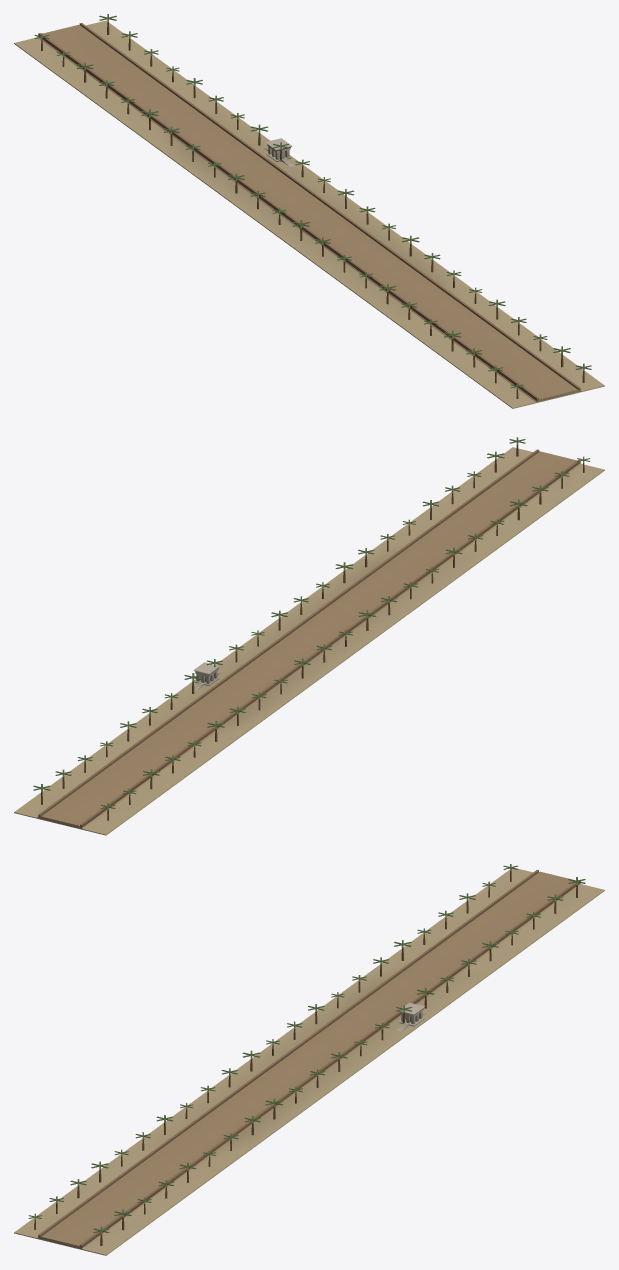
Rendered from processional-way.glb.
3 views of the same model, one above another, from view 1: azimuth 30°, elevation 25°; view 2: azimuth 150°, elevation 25°; view 3: azimuth 330°, elevation 25° (orthographic).
Visible parts, largest first — view 1: p0_road, p1_walls, p2_trees; view 2: p0_road, p1_walls, p2_trees; view 3: p0_road, p1_walls, p2_trees.
Boxes of the visible parts, bbox=[...] form: p0_road: bbox=[14, 20, 604, 408]; p1_walls: bbox=[38, 23, 580, 401]; p2_trees: bbox=[34, 14, 591, 392]; p0_road: bbox=[14, 447, 604, 835]; p1_walls: bbox=[38, 449, 580, 828]; p2_trees: bbox=[33, 437, 590, 813]; p0_road: bbox=[14, 867, 604, 1255]; p1_walls: bbox=[38, 869, 580, 1248]; p2_trees: bbox=[28, 864, 585, 1238].
Bounding box in the file's own units: 32.01 × 5.79 × 300.
